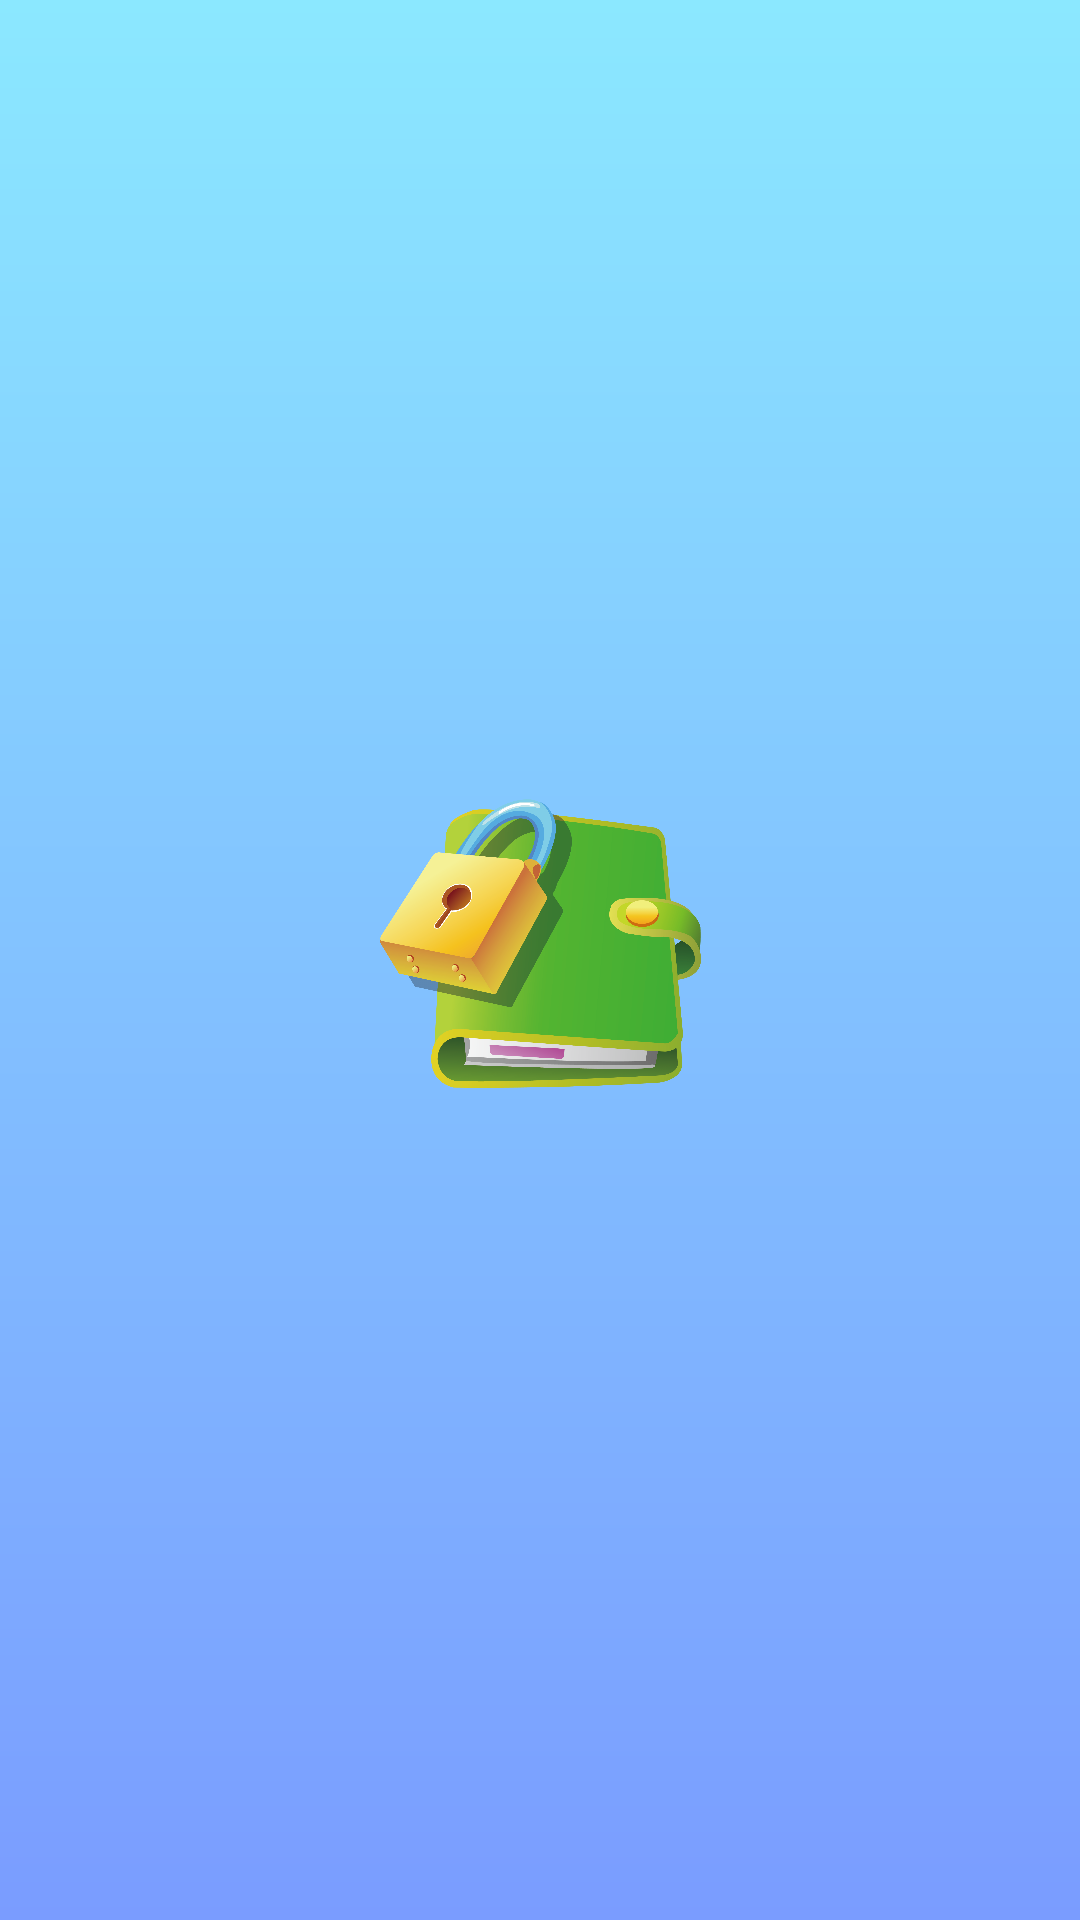

Where icons sit on this 1080*1920 app screen, as bbox(x1, y1, x2, y2):
diary: bbox(380, 802, 701, 1088)
